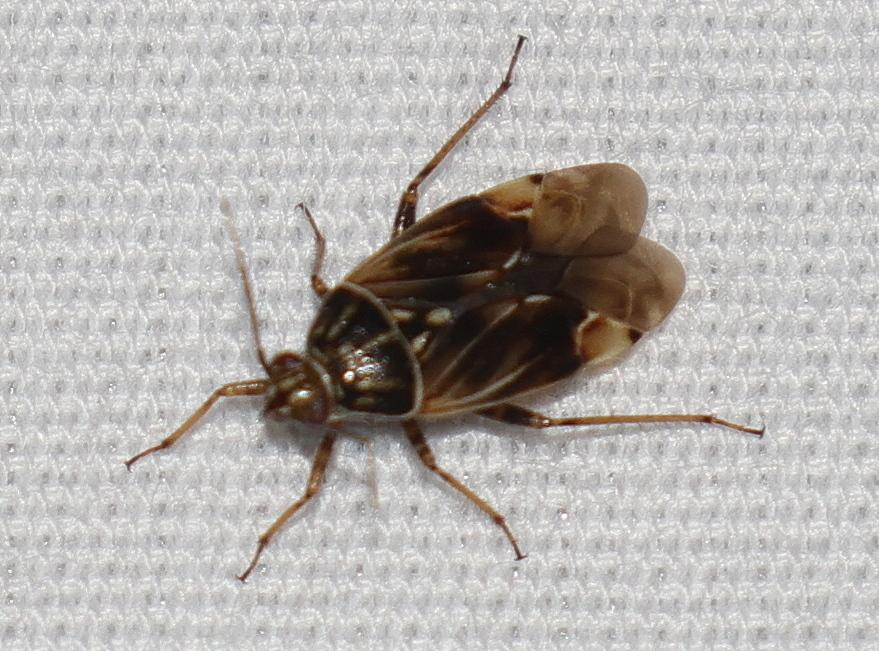plant_bugs: (54, 0, 835, 636)
